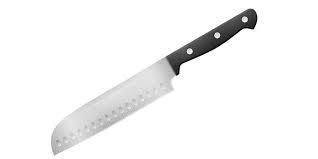Knife: (50, 7, 257, 155)
